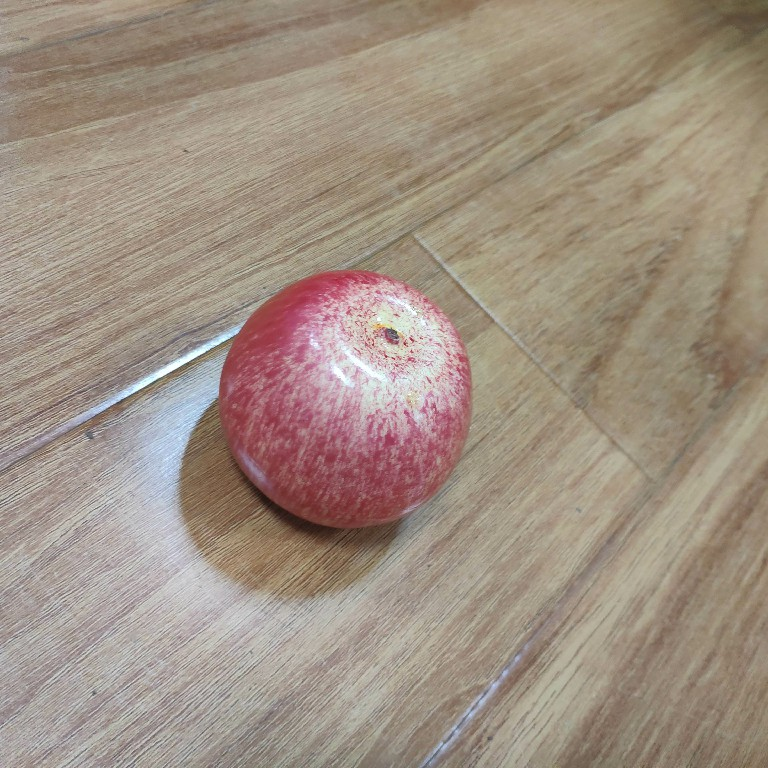fruit_apple: (214, 266, 477, 534)
